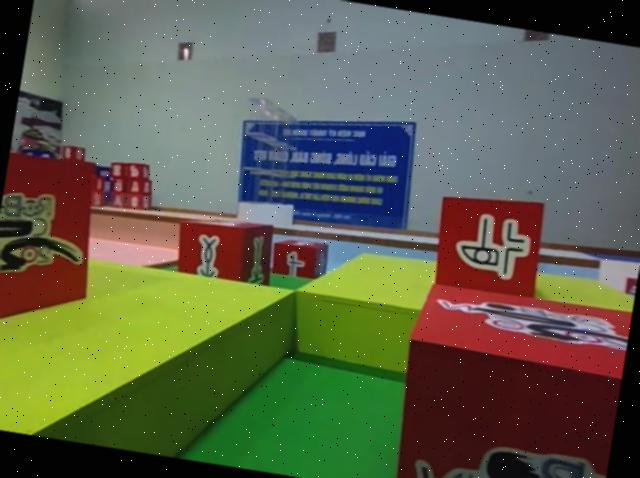R1: (381, 266, 634, 478), (0, 143, 115, 357)
R2 Real: (428, 183, 547, 308), (172, 213, 280, 296), (270, 232, 330, 285)
